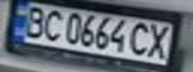0: (60, 10, 84, 46)
4: (109, 18, 133, 54)
6: (78, 12, 100, 48), (93, 16, 112, 51)
B: (18, 3, 51, 38)
C: (36, 7, 66, 43), (127, 20, 154, 57)
X: (145, 21, 175, 60)
